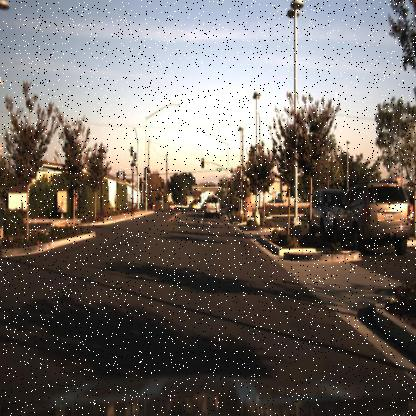car: (335, 178, 414, 264), (302, 187, 347, 234), (204, 193, 221, 217)
trafficLight-Red: (199, 154, 206, 168), (236, 164, 242, 180), (226, 175, 232, 186), (158, 176, 164, 186)
